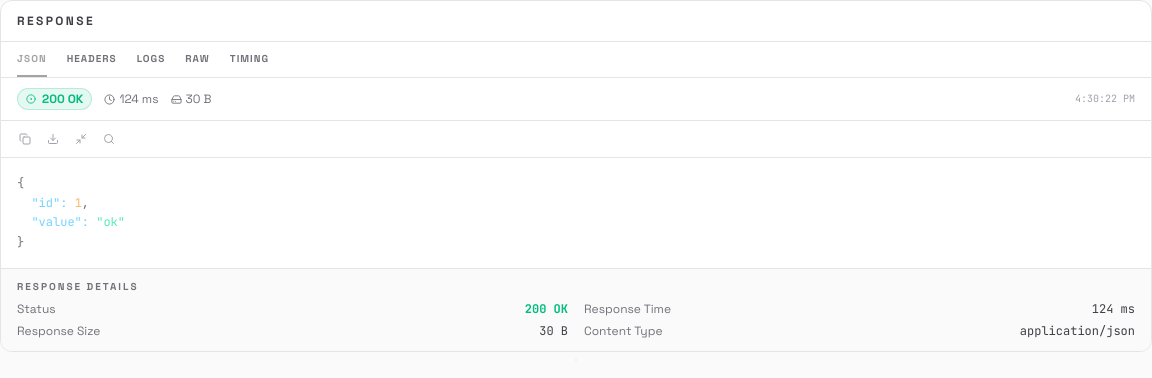
Scenario: ResponsePanel › switches to the Timing tab and shows the total duration
Click the button "Timing" at (249, 60), box [230,42,269,77]
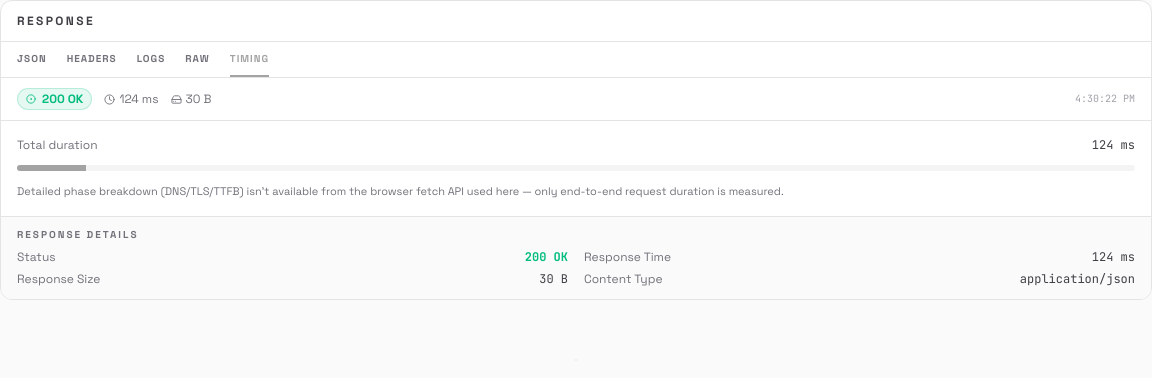
expect the text "Total duration" is shown: met, box [17,137,98,153]
